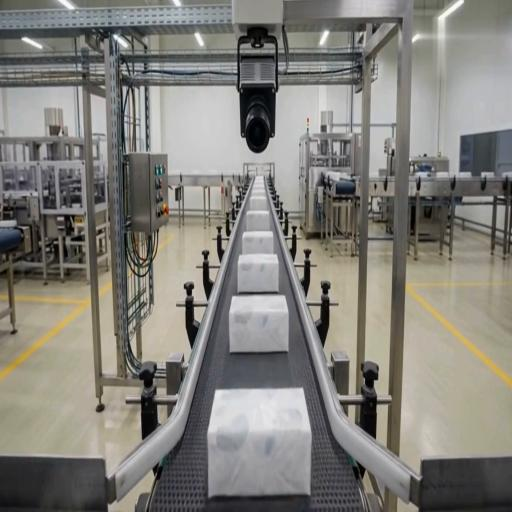good: (206, 379, 316, 506), (228, 294, 290, 354), (236, 253, 280, 295), (241, 230, 275, 256), (244, 210, 273, 232), (248, 193, 269, 211), (250, 176, 266, 187)
